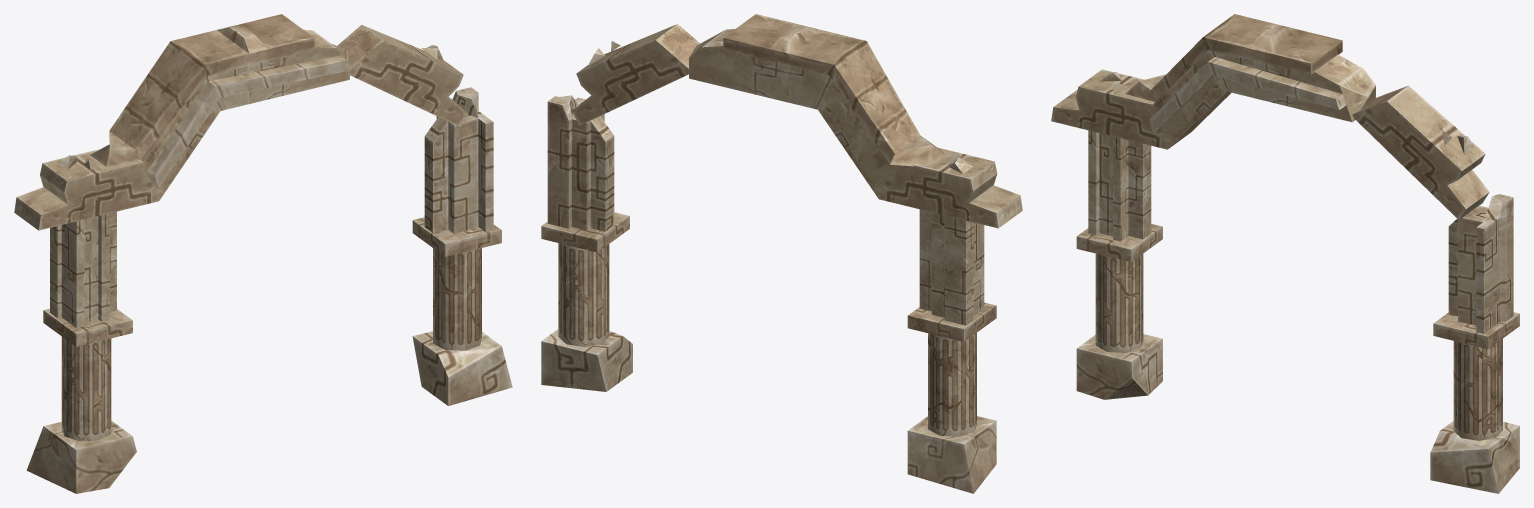
File: stone_men01.FBX
The picture shows the model from 3 angles, left to right: view 1: azimuth 30°, elevation 25°; view 2: azimuth 150°, elevation 25°; view 3: azimuth 330°, elevation 25°; orthographic projection. The views are drawn at different scales.
Parts seen in each view (by area): view 1: Box04; view 2: Box04; view 3: Box04.
Boxes of the visible parts, x1=… form: Box04: x1=14, y1=14, x2=512, y2=493; Box04: x1=541, y1=14, x2=1022, y2=493; Box04: x1=1051, y1=14, x2=1519, y2=493.
Bounding box in the file's own units: 670 × 552 × 97.82.
